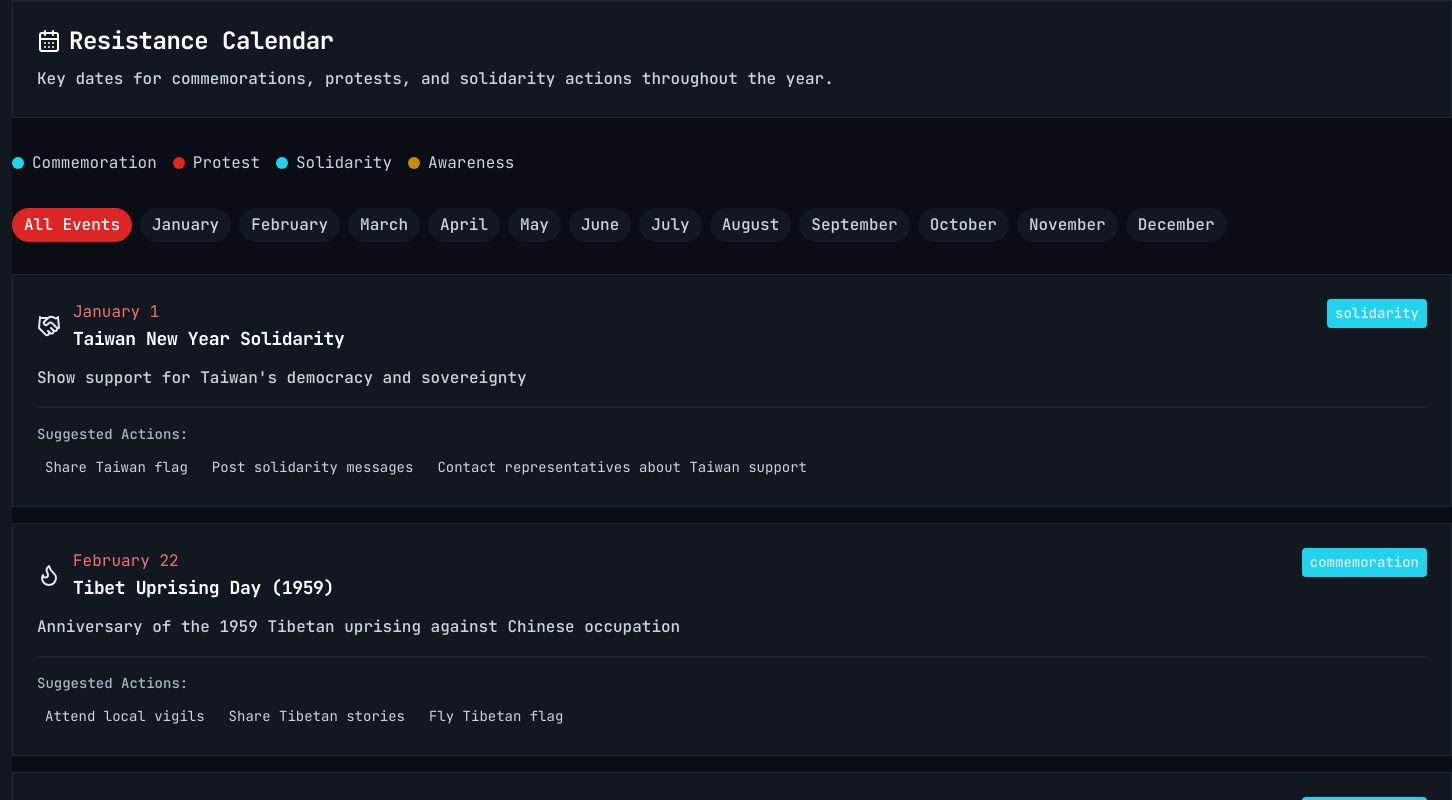
Scenario: EventCalendar › filters to March events correctly
Click the tab "March" at (384,225), box x1=348 y1=208 x2=420 y2=242
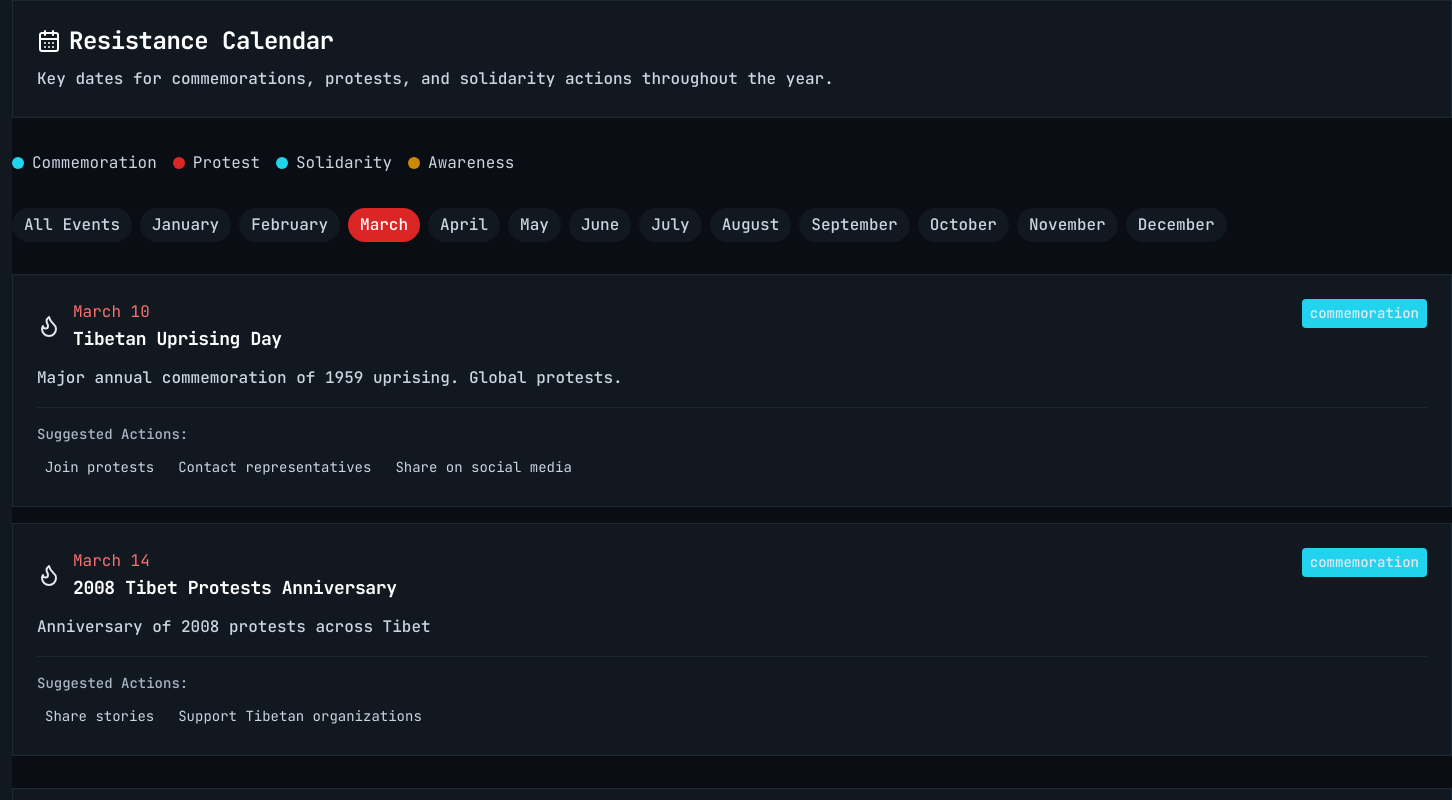
Check: the heading "Tibetan Uprising Day" is shown, box x1=73 y1=325 x2=282 y2=353
Check: the heading "2008 Tibet Protests Anniversary" is shown, box x1=73 y1=574 x2=397 y2=602
